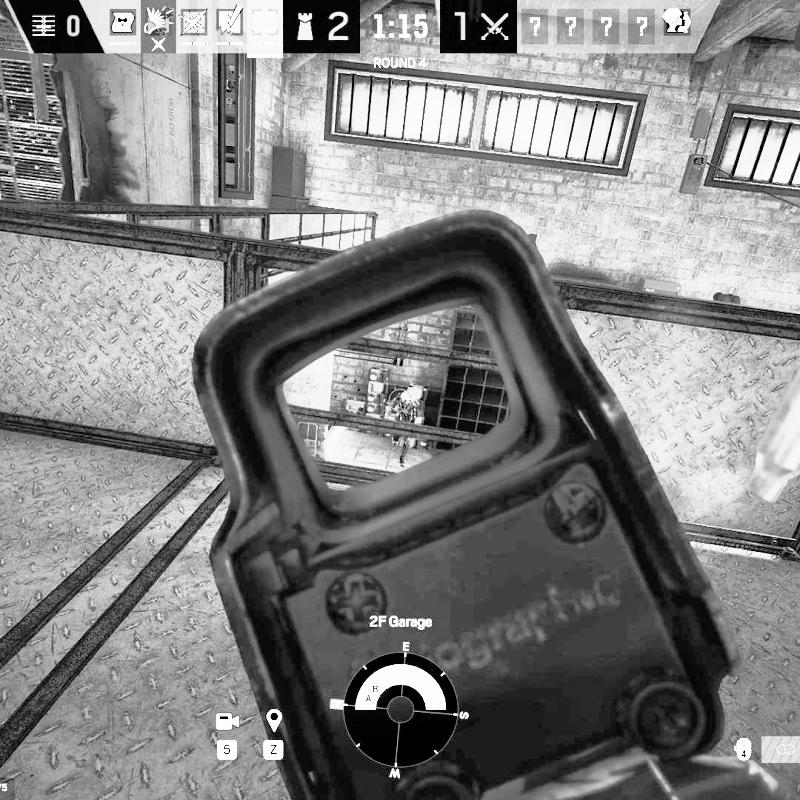Character: (390, 388, 420, 468)
Head: (402, 389, 414, 404)
